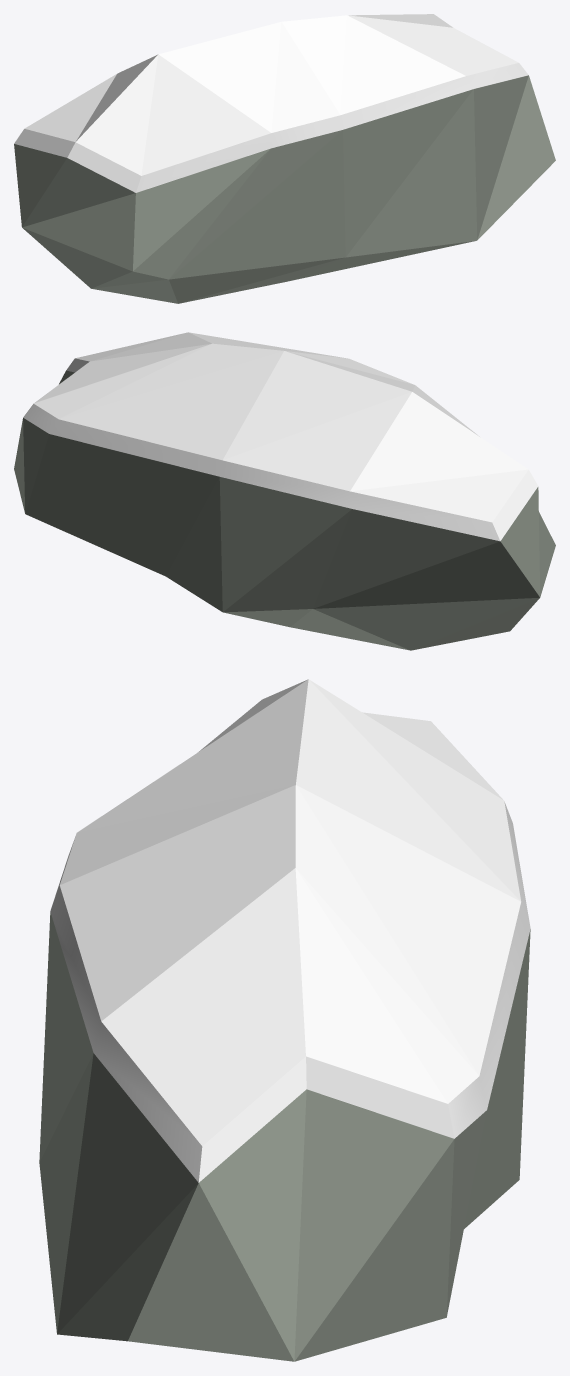
File: Rock_Dark_Snow_4.fbx
3 views of the same model, one above another, from view 1: azimuth 30°, elevation 25°; view 2: azimuth 150°, elevation 25°; view 3: azimuth 270°, elevation 25° (orthographic). The views are drawn at different scales.
Parts seen in each view (by area): view 1: Rock_Dark_Snow_4; view 2: Rock_Dark_Snow_4; view 3: Rock_Dark_Snow_4.
Boxes of the visible parts, x1,y1,x2,y2 form: Rock_Dark_Snow_4: (14,14,555,303); Rock_Dark_Snow_4: (14,332,555,650); Rock_Dark_Snow_4: (39,679,530,1361).
Bounding box in the file's own units: 4.1 × 2.04 × 1.77.
